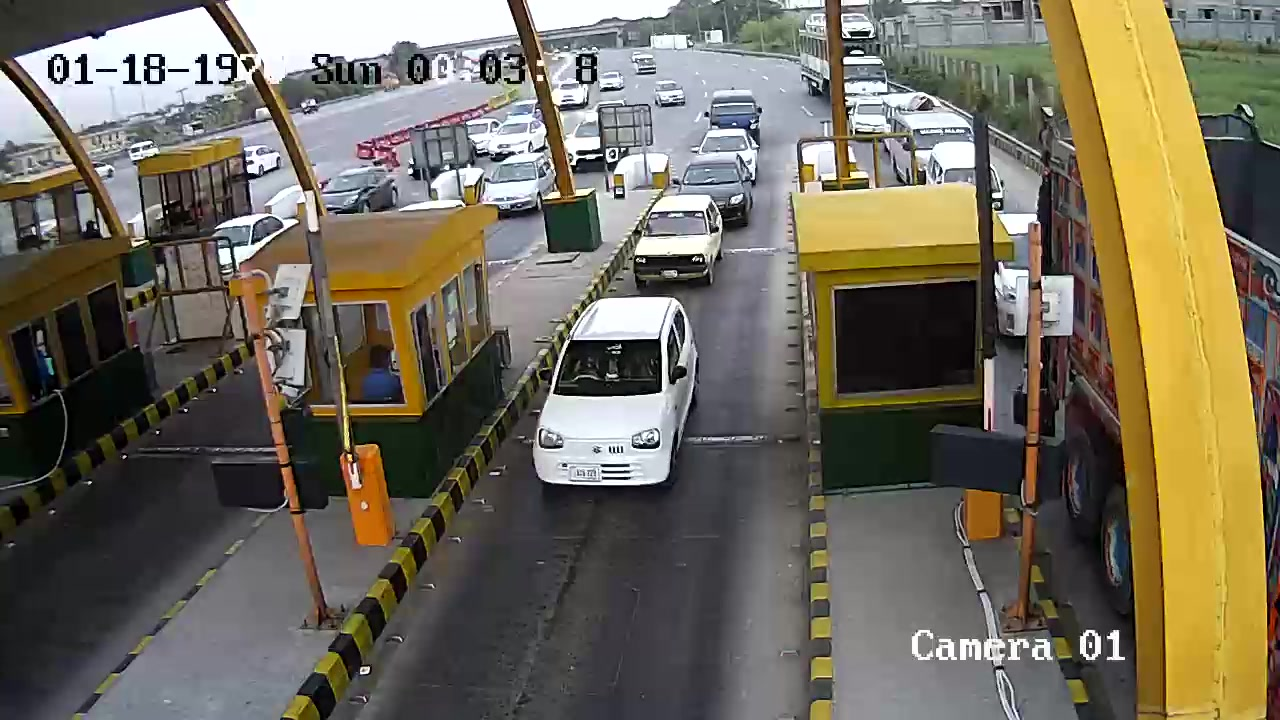F1: (526, 296, 704, 529)
